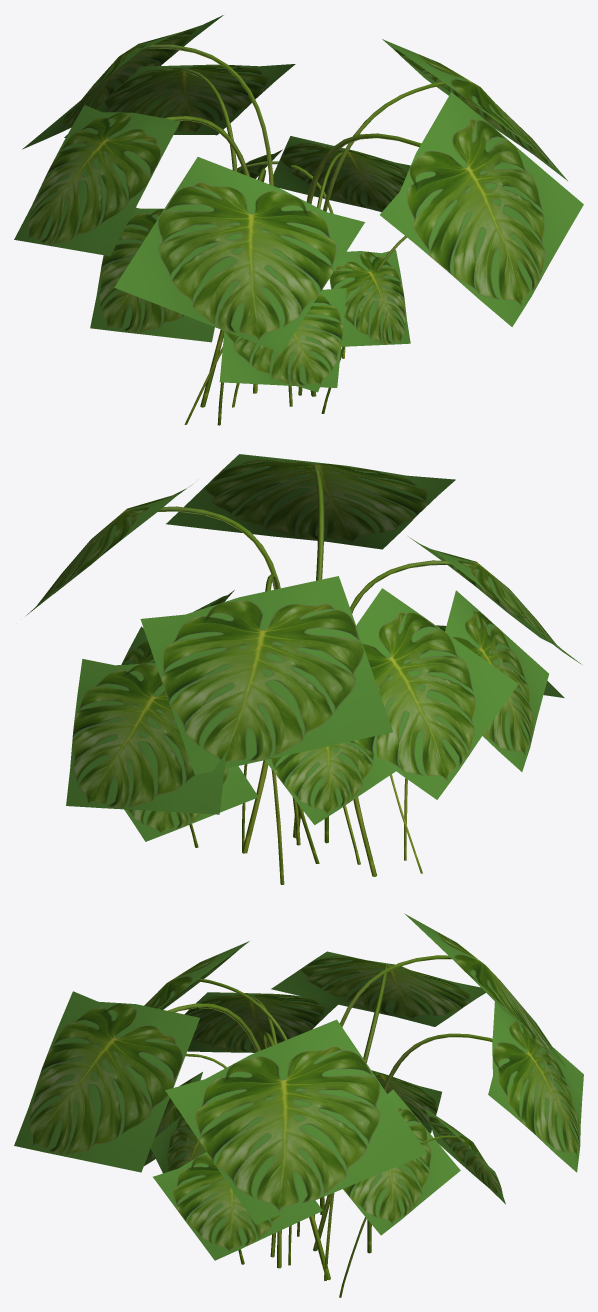
The model's file is monstera big.fbx.
3 renders of one model, top to bottom at view 1: azimuth 30°, elevation 25°; view 2: azimuth 150°, elevation 25°; view 3: azimuth 270°, elevation 25°, orthographic. The views are drawn at different scales.
Visible parts, largest first — view 1: monstera big; view 2: monstera big; view 3: monstera big.
Boxes of the visible parts, x1,y1,x2,y2 form: monstera big: (14, 15, 583, 425); monstera big: (26, 454, 581, 884); monstera big: (14, 913, 583, 1297).
Bounding box in the file's own units: 393 × 254 × 428.
